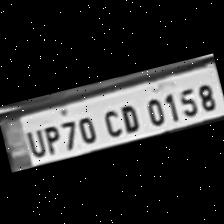0: (137, 90, 168, 128), (71, 110, 101, 146)
1: (159, 88, 181, 122)
5: (172, 82, 200, 119)
7: (55, 115, 80, 150)
8: (192, 77, 218, 113)
C: (95, 102, 123, 138)
D: (113, 96, 143, 134)
P: (39, 120, 64, 154)
U: (20, 124, 48, 158)
